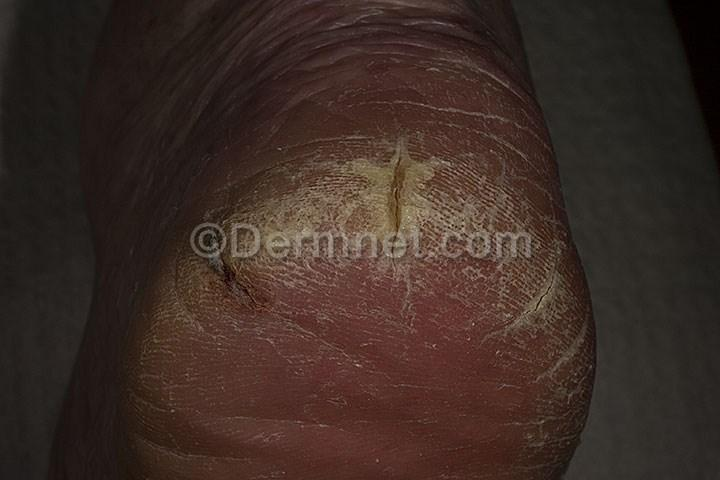Eczema: (256, 142, 361, 279), (164, 201, 289, 309), (472, 203, 565, 341), (345, 158, 457, 258), (129, 276, 210, 398), (438, 168, 512, 289), (518, 288, 593, 361), (534, 359, 599, 430)
